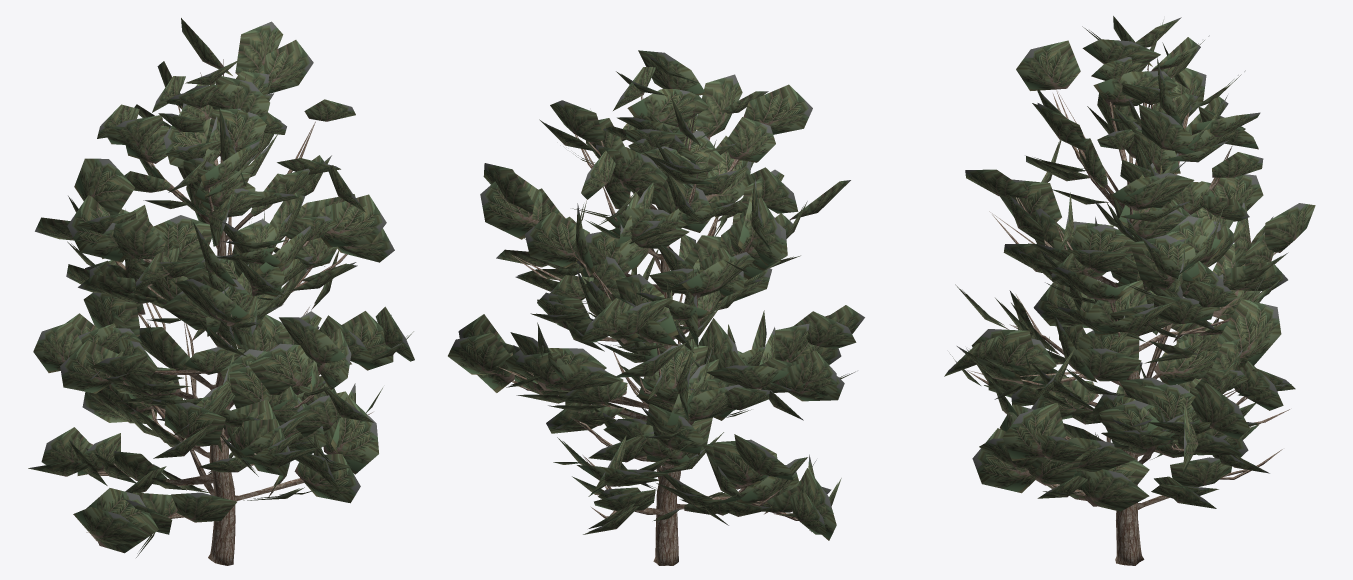
Rendered from tree-size-3.glb.
3 views of the same model, side by side, from view 1: azimuth 30°, elevation 25°; view 2: azimuth 150°, elevation 25°; view 3: azimuth 270°, elevation 25° (orthographic). The views are drawn at different scales.
Visible parts, largest first — view 1: DouglasFir_Desktop_Pyramid_LOD0; view 2: DouglasFir_Desktop_Pyramid_LOD0; view 3: DouglasFir_Desktop_Pyramid_LOD0.
Boxes of the visible parts, box(x1,y1,x2,y2) form: DouglasFir_Desktop_Pyramid_LOD0: box(28, 18, 414, 565); DouglasFir_Desktop_Pyramid_LOD0: box(448, 50, 864, 565); DouglasFir_Desktop_Pyramid_LOD0: box(944, 16, 1315, 565).
Size of the model in its own units: 10.58 by 14.63 by 10.37.
Materials: 2 (2 with a texture image).
